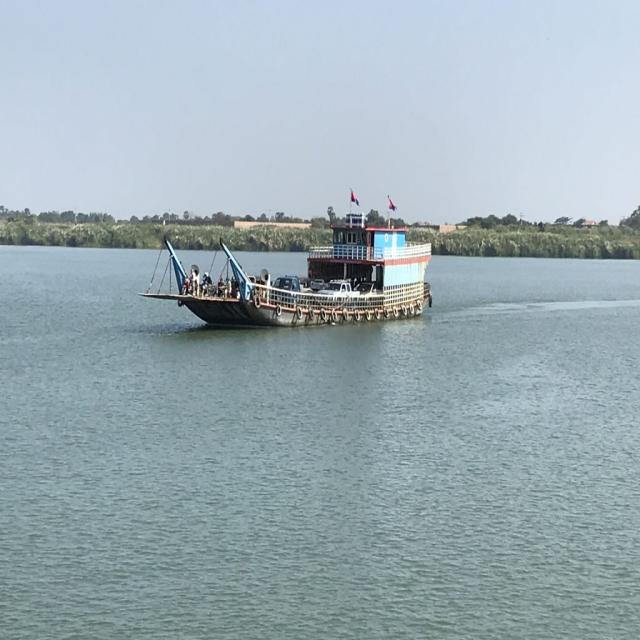cargoship: (137, 193, 457, 342)
